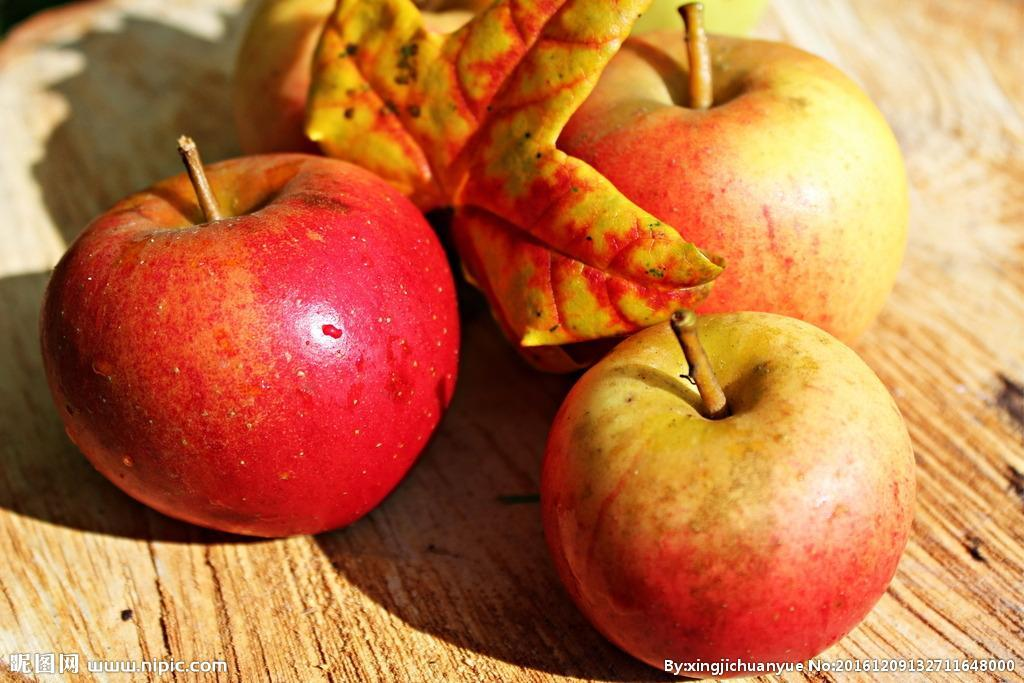apple: (33, 145, 455, 524), (538, 316, 915, 675), (526, 25, 912, 363)
